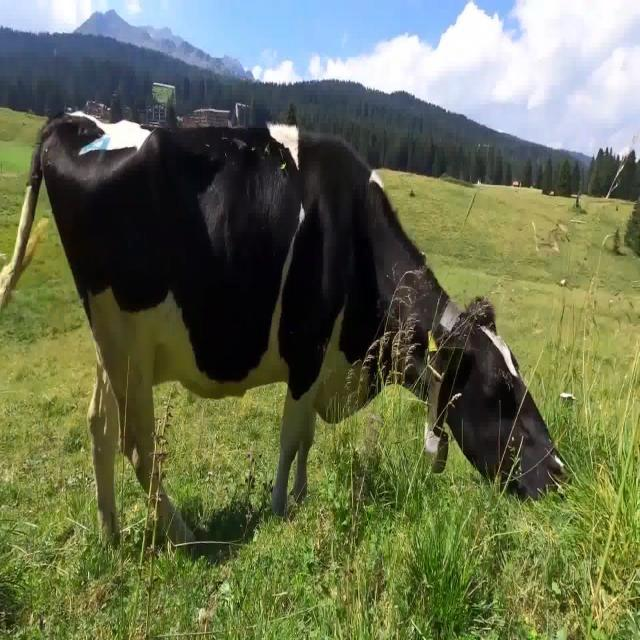cow: (4, 114, 565, 542)
